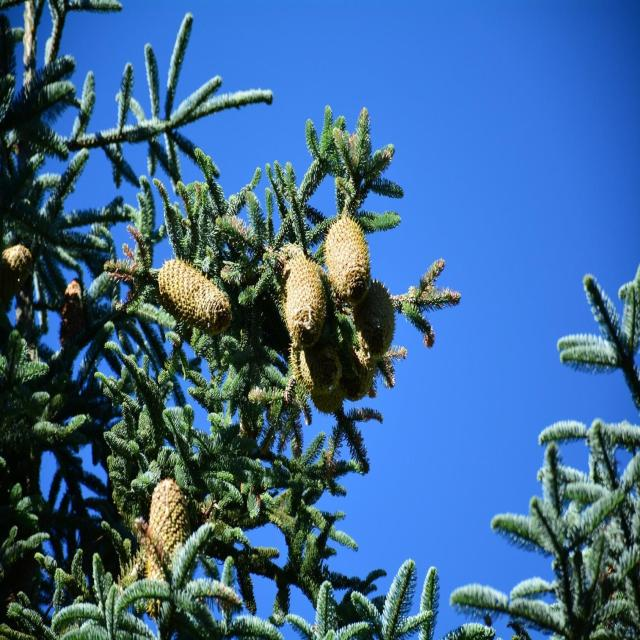Abies: (94, 137, 443, 572)
